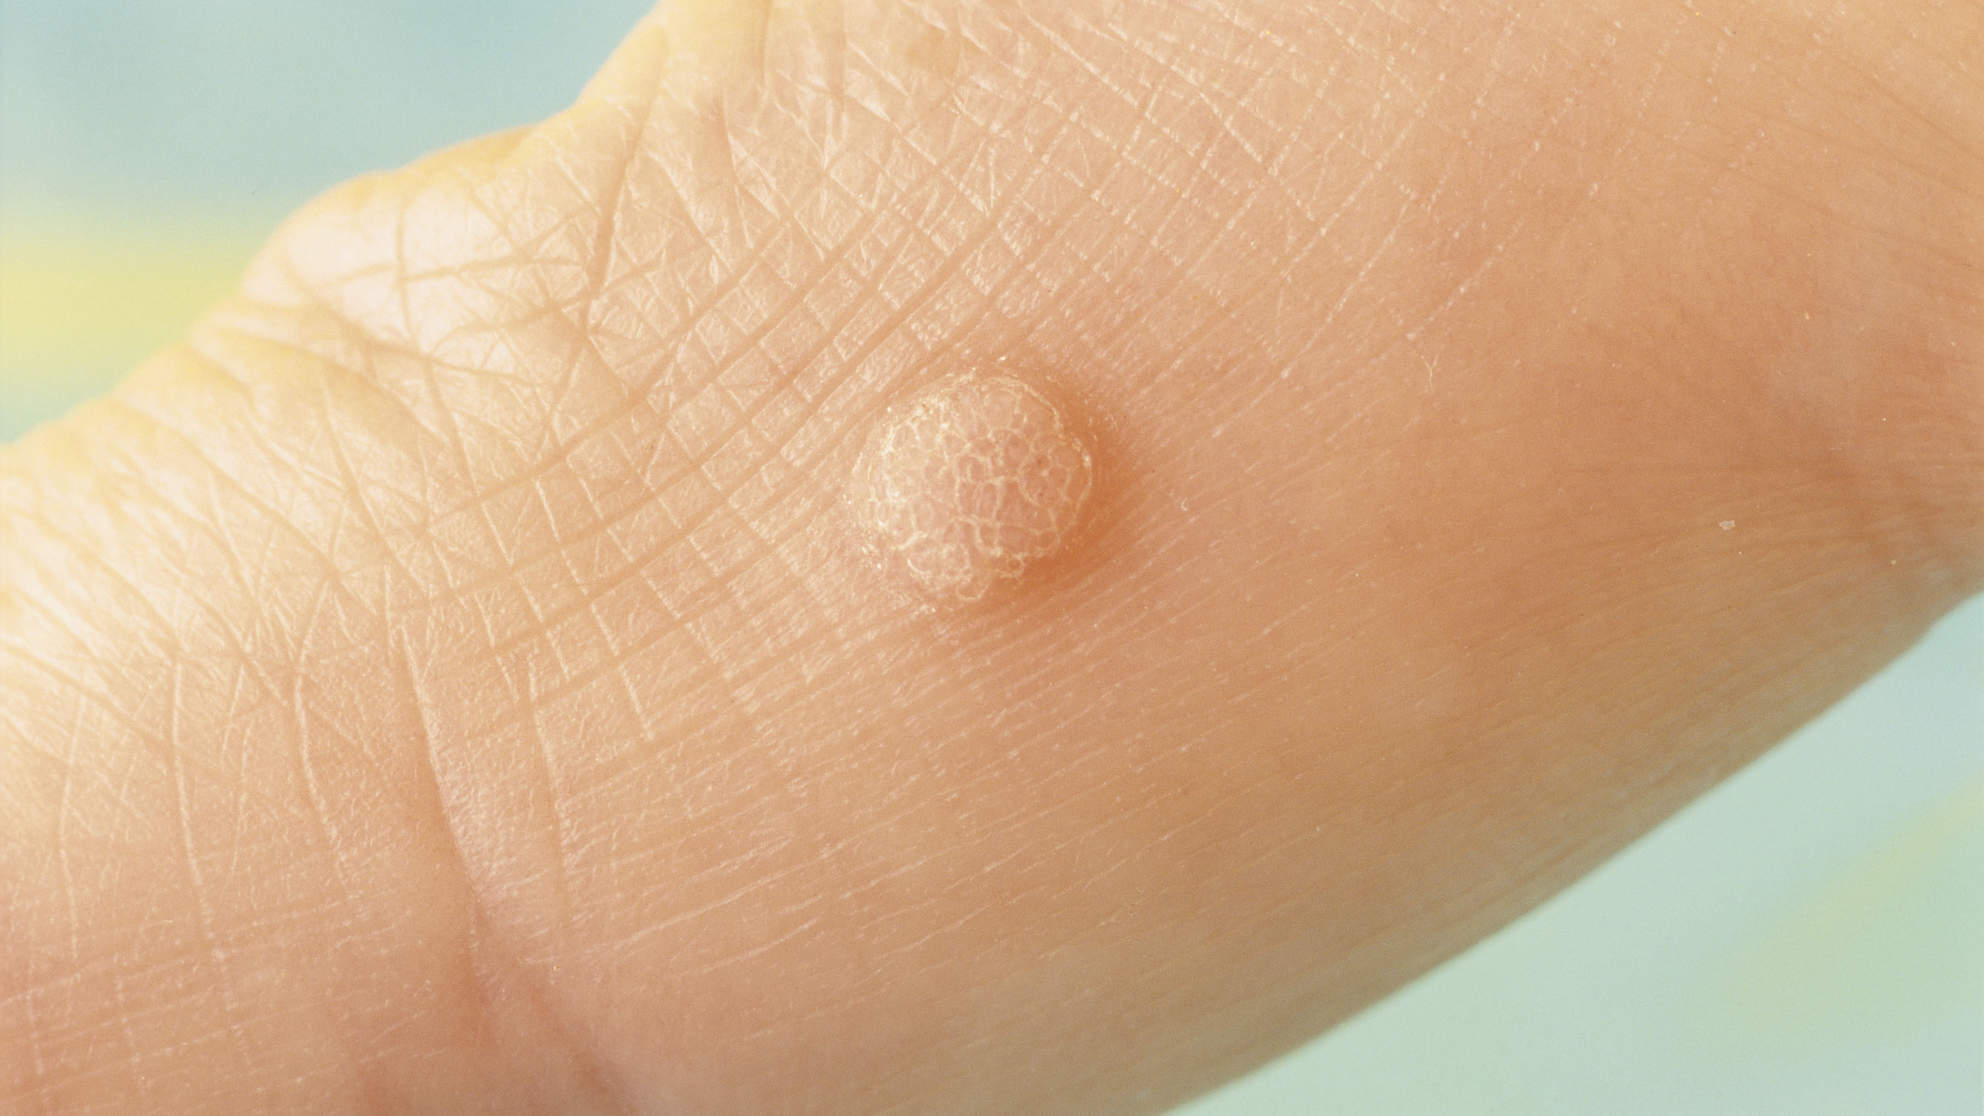Diseased: (575, 179, 1311, 895)
